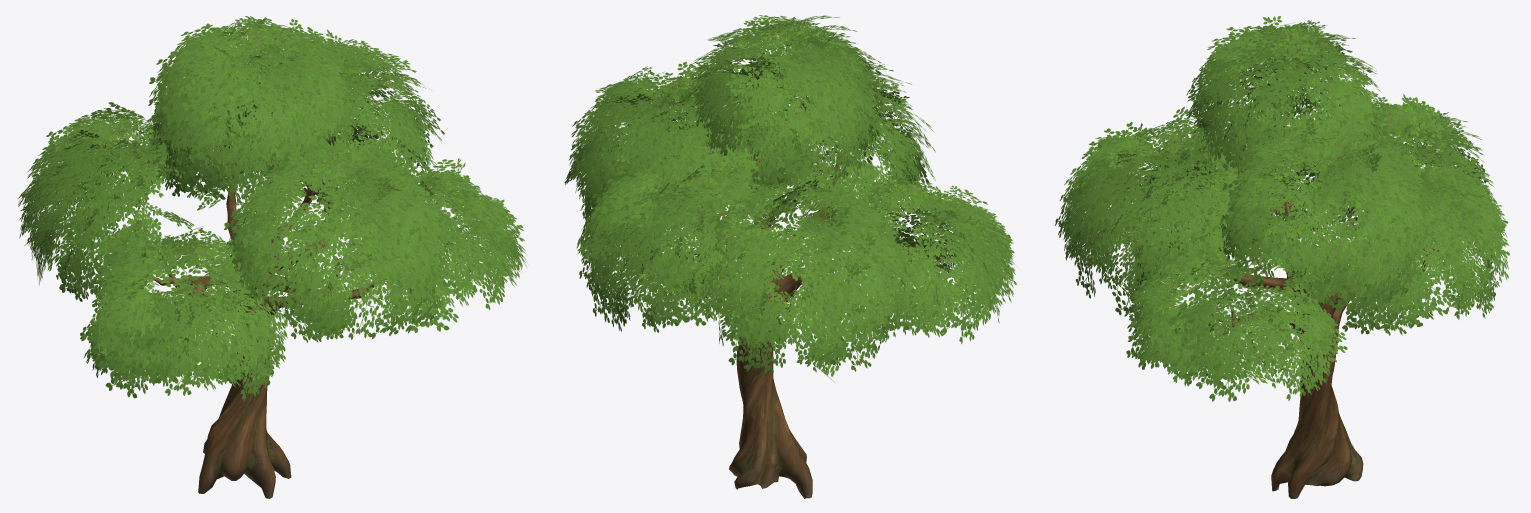
The model's file is tree-redalder2.glb.
3 views of the same model, side by side, from view 1: azimuth 30°, elevation 25°; view 2: azimuth 150°, elevation 25°; view 3: azimuth 270°, elevation 25° (orthographic). The views are drawn at different scales.
Visible parts, largest first — view 1: RedAlder2.dmx-static; view 2: RedAlder2.dmx-static; view 3: RedAlder2.dmx-static.
Part boxes in pixels (x1=…): RedAlder2.dmx-static: x1=17, y1=16, x2=527, y2=498; RedAlder2.dmx-static: x1=564, y1=15, x2=1016, y2=498; RedAlder2.dmx-static: x1=1055, y1=16, x2=1509, y2=498.
Bounding box in the file's own units: 27.88 × 28.89 × 26.69.
2 materials, 2 textured.
